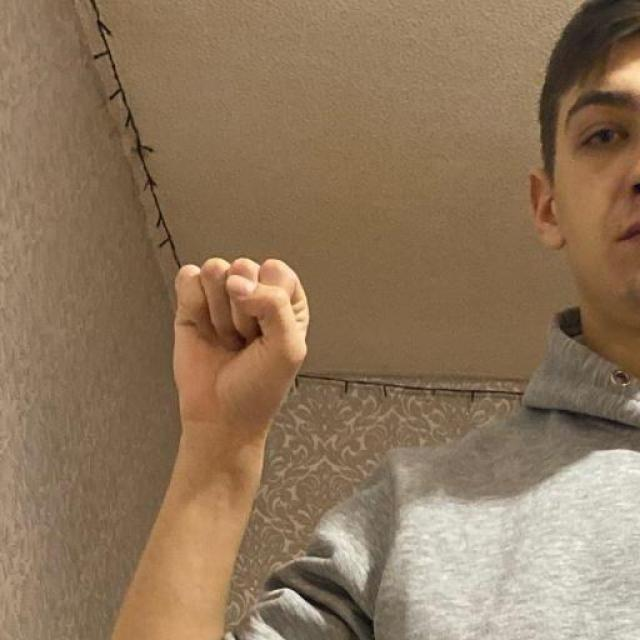hand: (170, 254, 310, 444)
